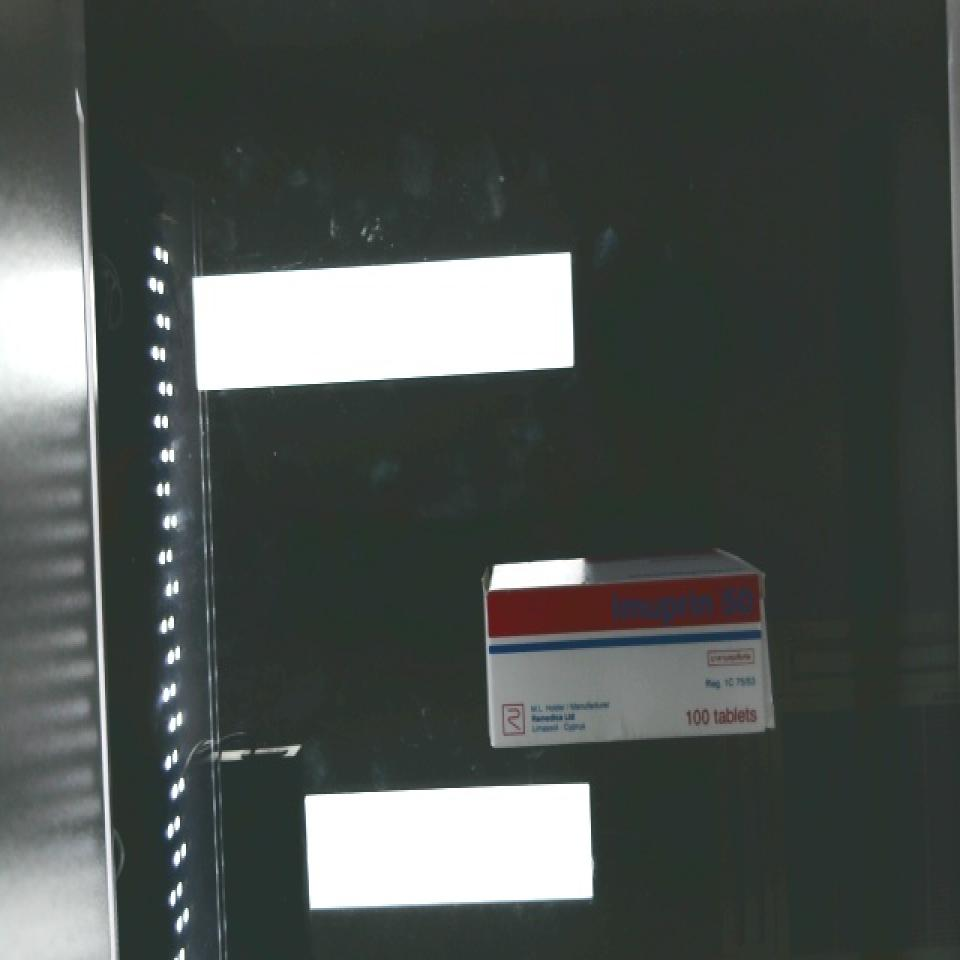medicine_box: (476, 566, 780, 750)
medicine_label_obb: (598, 566, 766, 641)
